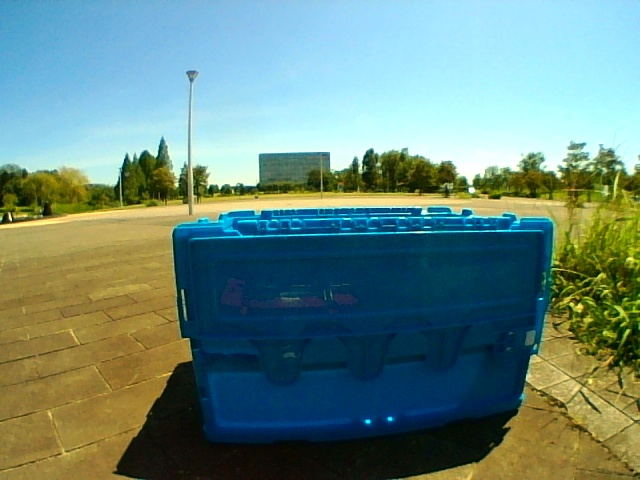blue_box: (198, 214, 520, 413)
